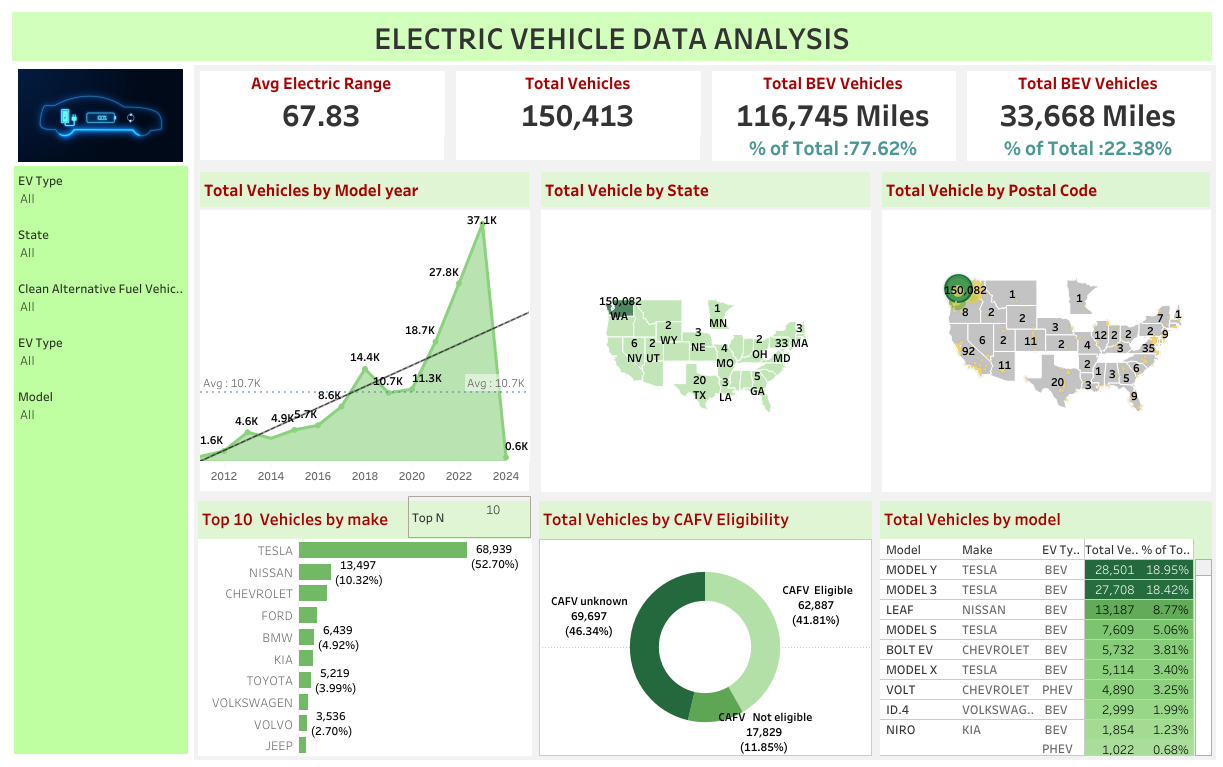

The page's visual inventory and layout, read from the dashboard file:
{"tool":"tableau","page":{"name":"Dashboard 2","canvas":[1224,768],"ordinal":0},"visuals":[{"type":"title","box":[8,8,1208,57]},{"type":"image","param":"D:/bravo(downloads)/istockphoto-1328437869-640x640.jpg","box":[8,65,186,101]},{"type":"worksheet","title":"Avg Electric range ","mark":"Automatic","box":[194,65,256,101]},{"type":"worksheet","title":"Total Vehicles ","mark":"Automatic","box":[450,65,256,101]},{"type":"worksheet","title":"Total BEV vehicles ","mark":"Automatic","box":[706,65,255,101]},{"type":"worksheet","title":"Total  PHEV vehicles","mark":"Automatic","box":[961,65,255,101]},{"type":"filter","title":"Top 10 Vehicles by make ","param":"[federated.0zilas50hct9jg12qe65c1gnrprk].[none:Electric Vehicle Type:nk]","box":[14,166,174,54]},{"type":"worksheet","title":"Total Vehicles by Model year","mark":"Area","rows":["Calculation_1394427058293882880","Calculation_1394427058293882880"],"cols":["Model Year"],"box":[194,166,341,331]},{"type":"worksheet","title":"Total Vehicle by State ","mark":"Multipolygon","box":[535,166,341,331]},{"type":"worksheet","title":"Total Vehicle by Postal Code ","mark":"Multipolygon","box":[876,166,340,331]},{"type":"filter","title":"Top 10 Vehicles by make ","param":"[federated.0zilas50hct9jg12qe65c1gnrprk].[none:State:nk]","box":[14,220,174,54]},{"type":"filter","title":"Total Vehicle by Postal Code ","param":"[federated.0zilas50hct9jg12qe65c1gnrprk].[none:Clean Alternative Fuel Vehicle (C","box":[14,274,174,54]},{"type":"filter","title":"Total Vehicle by Postal Code ","param":"[federated.0zilas50hct9jg12qe65c1gnrprk].[none:Electric Vehicle Type:nk]","box":[14,328,174,54]},{"type":"filter","title":"Total Vehicle by Postal Code ","param":"[federated.0zilas50hct9jg12qe65c1gnrprk].[none:Model:nk]","box":[14,382,174,54]},{"type":"blank","box":[14,436,174,53]},{"type":"blank","box":[14,489,174,53]},{"type":"parameter","param":"[Parameters].[Parameter 2]","box":[408,496,123,42]},{"type":"worksheet","title":"Top 10 Vehicles by make ","mark":"Automatic","rows":["Make"],"cols":["Calculation_1394427058293882880"],"box":[194,497,341,263]},{"type":"worksheet","title":"Total Vehicles by CAFV Eligibility","mark":"Pie","rows":["Calculation_827817930517082114","Calculation_827817930517082114"],"box":[535,497,341,263]},{"type":"worksheet","title":"Total Vehicles by model ","mark":"Square","rows":["Model","Make","Electric Vehicle Type"],"box":[876,497,340,263]},{"type":"blank","box":[14,542,174,53]},{"type":"blank","box":[14,595,174,53]},{"type":"blank","box":[14,648,174,53]},{"type":"blank","box":[14,701,174,53]}]}

Visuals, with their boxes in screenshot pixels (x1, y1, x2, y2), scaled from the page's 1224x768 canvas onto the 1223x767 screenshot:
title: 8/8/1215/65
image: 8/65/194/166
"Avg Electric range " worksheet: 194/65/450/166
"Total Vehicles " worksheet: 450/65/705/166
"Total BEV vehicles " worksheet: 705/65/960/166
"Total  PHEV vehicles" worksheet: 960/65/1215/166
"Top 10 Vehicles by make " filter: 14/166/188/220
"Total Vehicles by Model year" worksheet (Area marks): 194/166/535/496
"Total Vehicle by State " worksheet (Multipolygon marks): 535/166/875/496
"Total Vehicle by Postal Code " worksheet (Multipolygon marks): 875/166/1215/496
"Top 10 Vehicles by make " filter: 14/220/188/274
"Total Vehicle by Postal Code " filter: 14/274/188/328
"Total Vehicle by Postal Code " filter: 14/328/188/382
"Total Vehicle by Postal Code " filter: 14/382/188/435
blank: 14/435/188/488
blank: 14/488/188/541
parameter: 408/495/531/537
"Top 10 Vehicles by make " worksheet: 194/496/535/759
"Total Vehicles by CAFV Eligibility" worksheet (Pie marks): 535/496/875/759
"Total Vehicles by model " worksheet (Square marks): 875/496/1215/759
blank: 14/541/188/594
blank: 14/594/188/647
blank: 14/647/188/700
blank: 14/700/188/753
